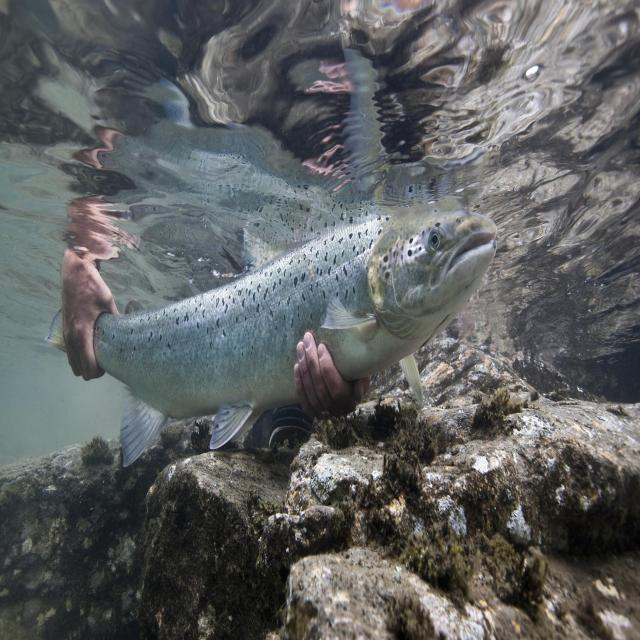salmon: (48, 178, 504, 485)
